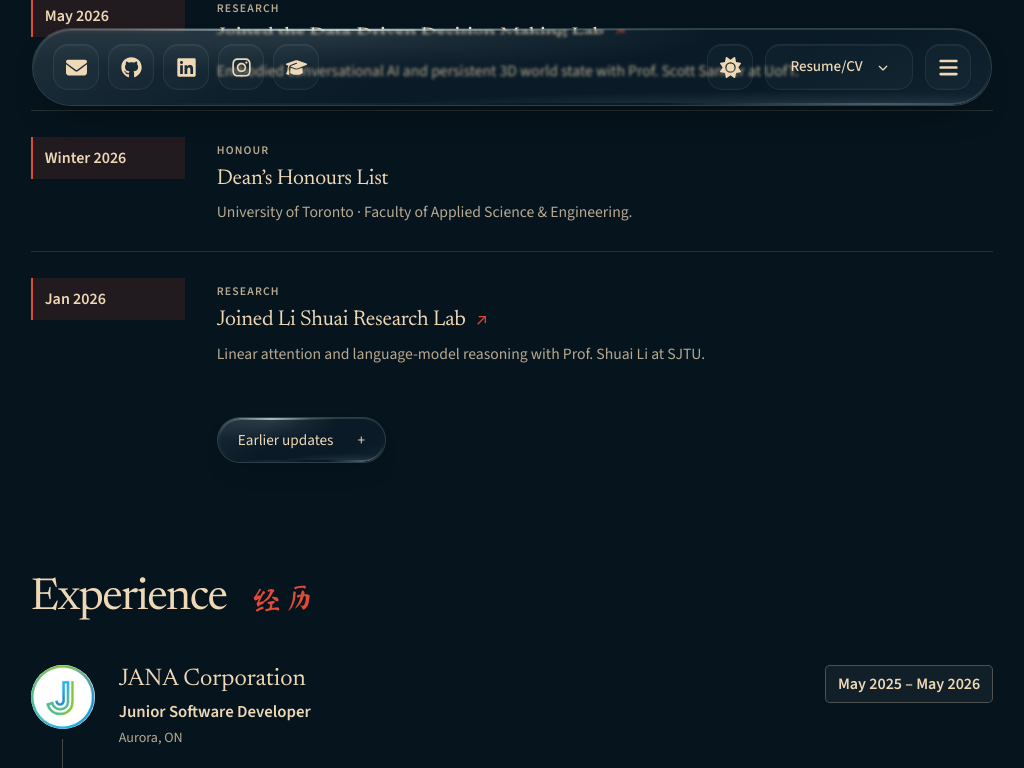
Test: separates CV research and publications before projects, while retaining older news
The width and height of the screenshot is (1024, 768).
(page scrolled)
expect the heading "2nd in Commerce" is not shown: met
Click the button "Earlier updates +": (301, 440) 217,417 -> 386,463
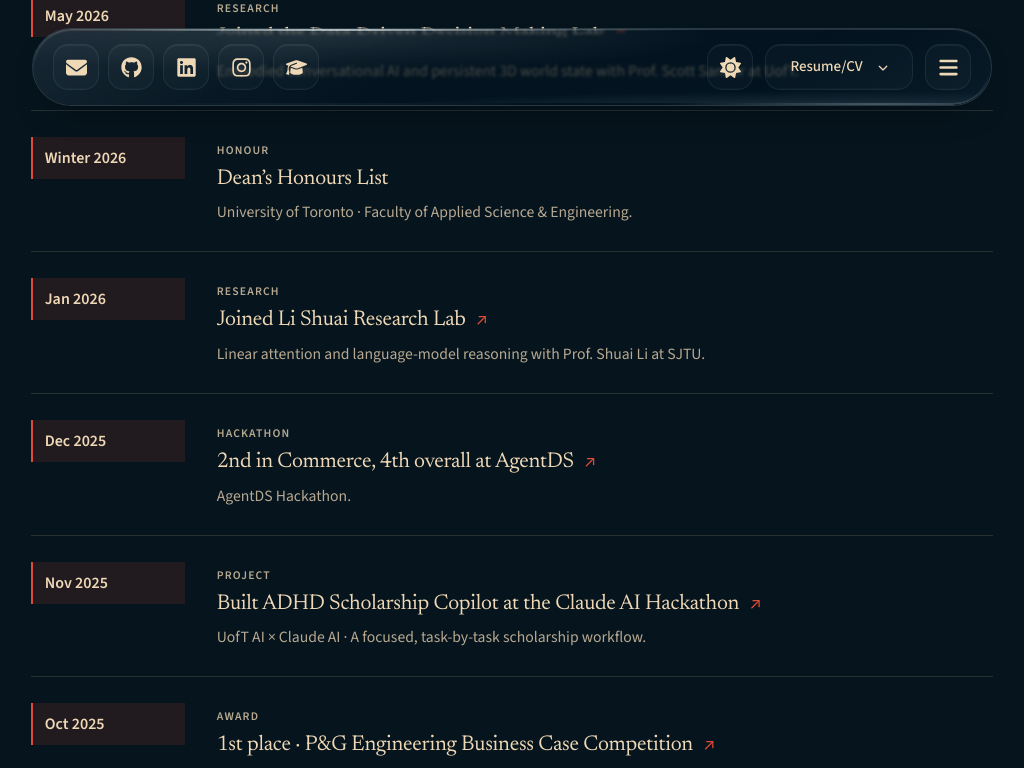
expect the heading "2nd in Commerce, 4th overall at AgentDS ↗" is shown: met, box 217,451 -> 596,473
